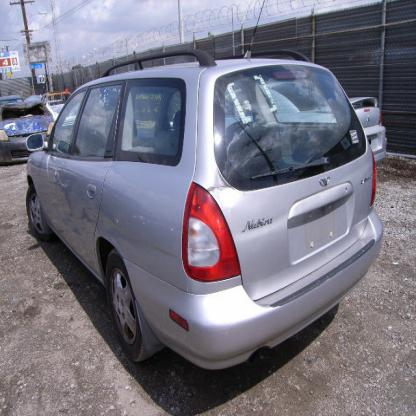Vehicle: (25, 47, 386, 373)
